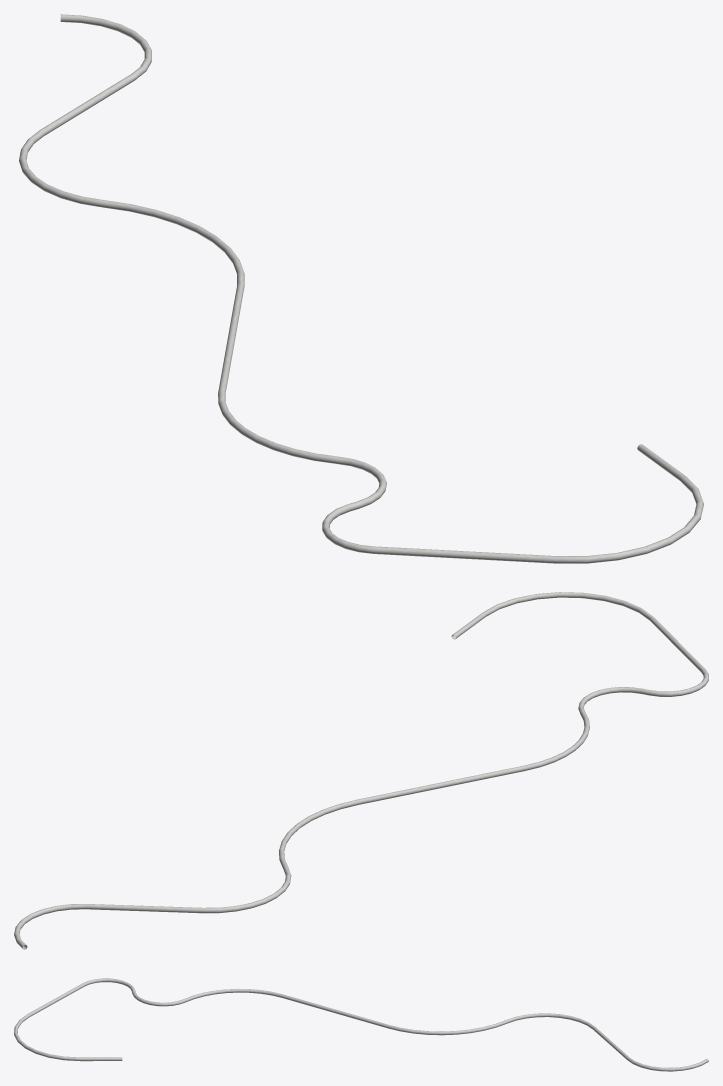
File: Pipe__27.fbx
3 renders of one model, top to bottom at view 1: azimuth 30°, elevation 25°; view 2: azimuth 150°, elevation 25°; view 3: azimuth 270°, elevation 25°, orthographic. The views are drawn at different scales.
Visible parts, largest first — view 1: Pipe_Red; view 2: Pipe_Red; view 3: Pipe_Red.
Part boxes in pixels (left/top/right/bottom): Pipe_Red: left=19, top=14, right=703, bottom=563; Pipe_Red: left=14, top=592, right=708, bottom=949; Pipe_Red: left=14, top=978, right=708, bottom=1071.
Bounding box in the file's own units: 4.54 × 0.08 × 14.66.
Materials: 1 (1 with a texture image).
